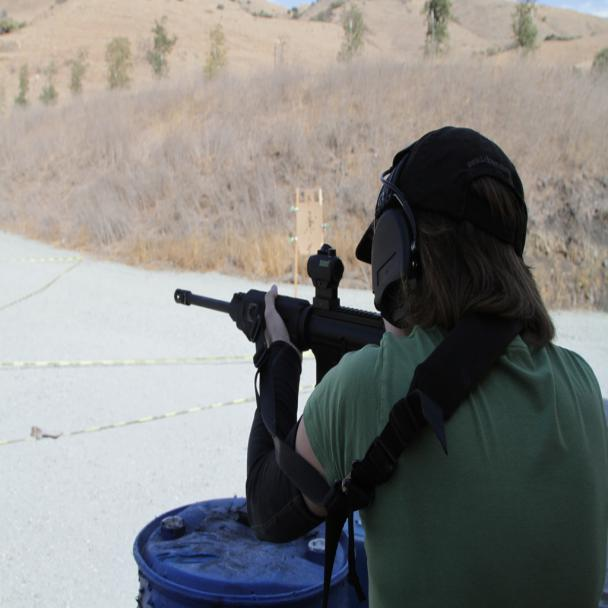Gun: (164, 216, 370, 359)
